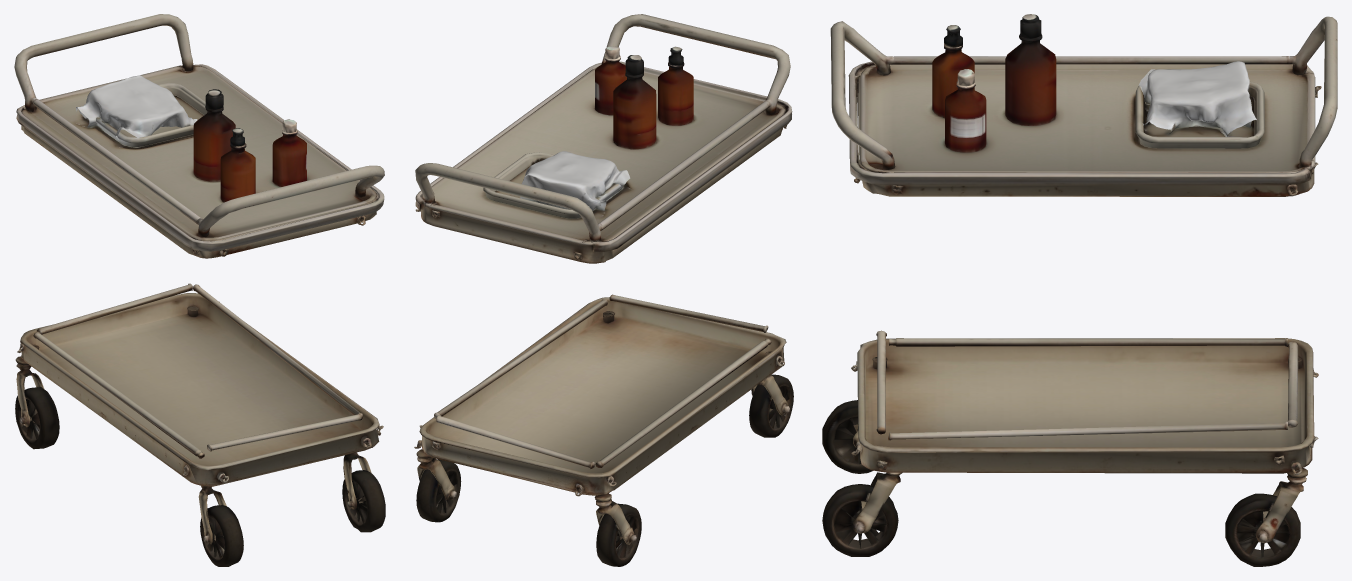
The model's file is prop-medical-cart-v01.glb.
3 views of the same model, side by side, from view 1: azimuth 30°, elevation 25°; view 2: azimuth 150°, elevation 25°; view 3: azimuth 270°, elevation 25° (orthographic). The views are drawn at different scales.
Visible parts, largest first — view 1: tripo_node_9a01e656-d1d4-4dfc-9c6e-9209bab8e5ee; view 2: tripo_node_9a01e656-d1d4-4dfc-9c6e-9209bab8e5ee; view 3: tripo_node_9a01e656-d1d4-4dfc-9c6e-9209bab8e5ee.
Boxes of the visible parts, x1,y1,x2,y2 form: tripo_node_9a01e656-d1d4-4dfc-9c6e-9209bab8e5ee: (14, 14, 385, 566); tripo_node_9a01e656-d1d4-4dfc-9c6e-9209bab8e5ee: (414, 14, 793, 566); tripo_node_9a01e656-d1d4-4dfc-9c6e-9209bab8e5ee: (822, 14, 1337, 566).
Bounding box in the file's own units: 0.5706 × 1.04 × 0.9959.
Materials: 1 (1 with a texture image).
